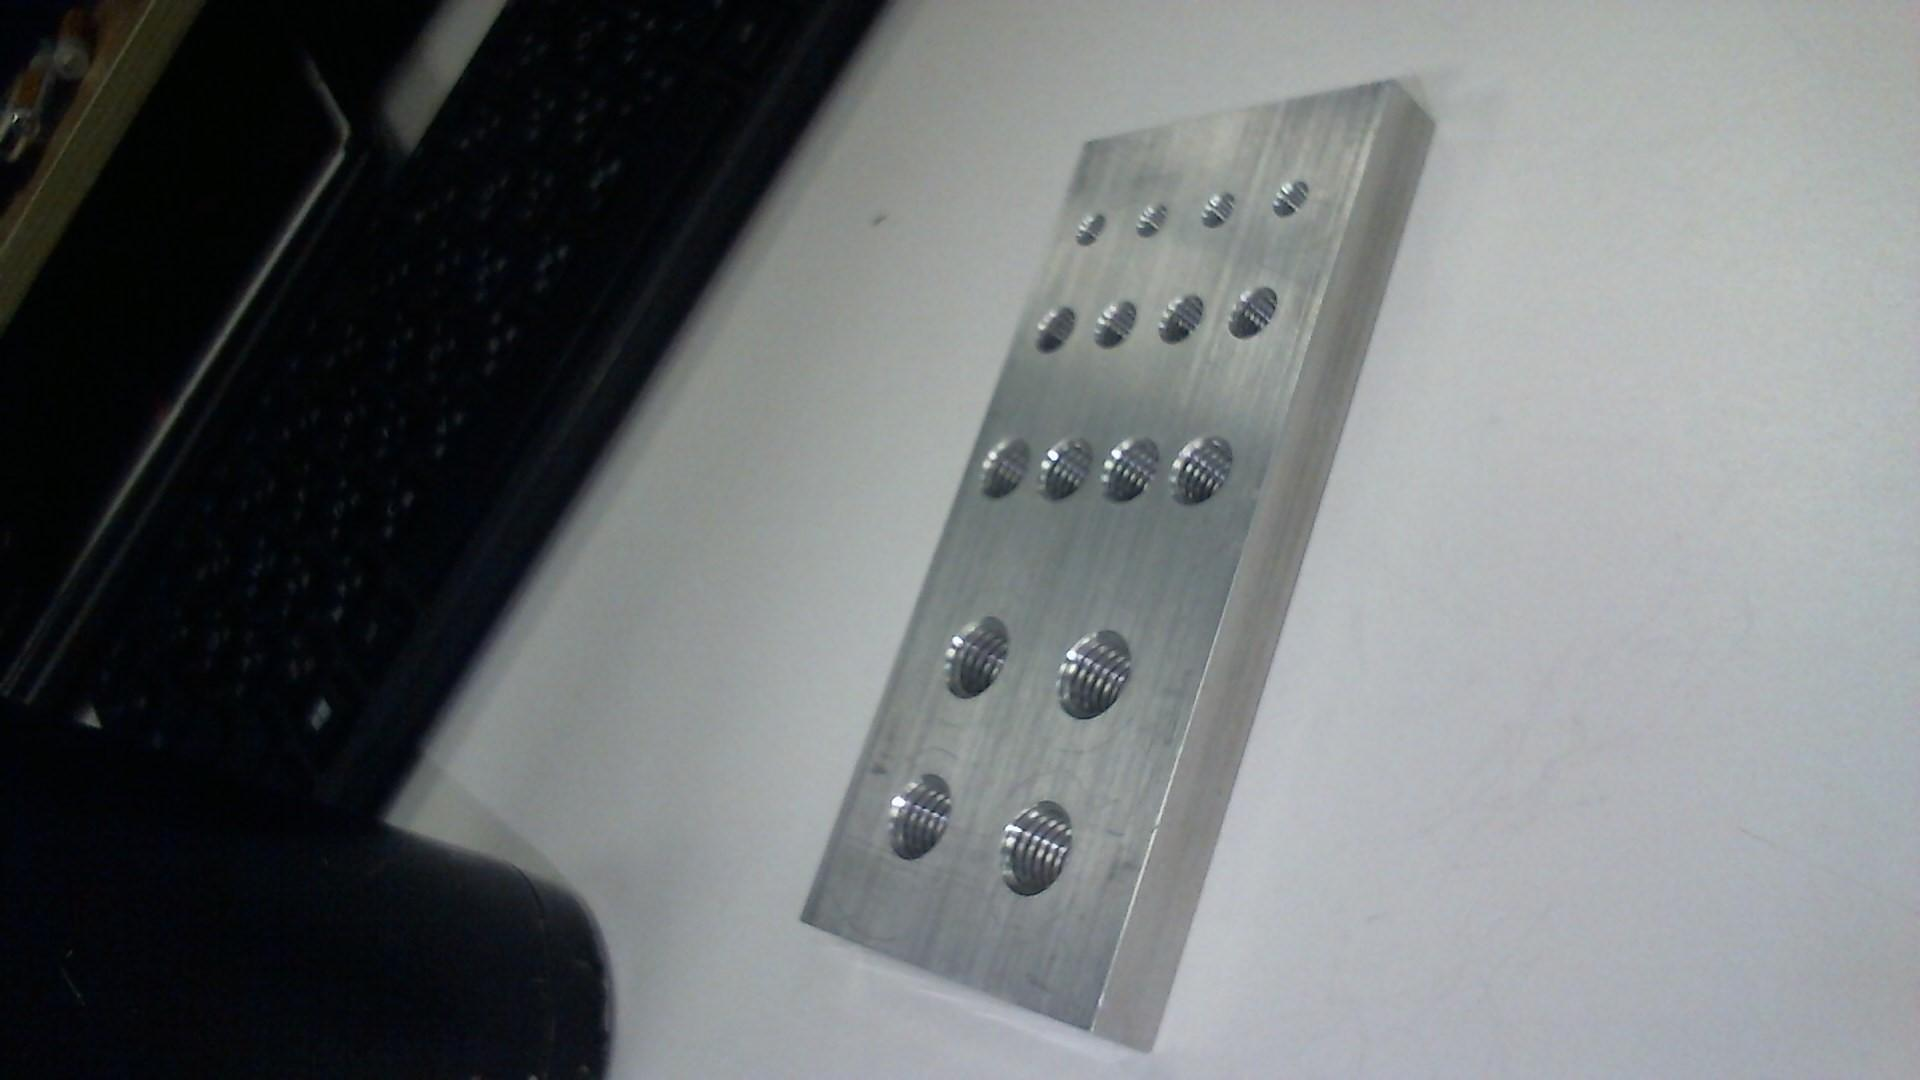hole: (985, 800, 1081, 909), (1048, 620, 1143, 727), (877, 767, 960, 866), (931, 609, 1014, 705), (1170, 435, 1236, 510), (1038, 434, 1095, 505), (1104, 433, 1159, 505), (977, 438, 1030, 506), (1226, 286, 1279, 340), (1089, 295, 1139, 351), (1156, 294, 1207, 344), (1273, 165, 1313, 225), (1034, 303, 1076, 353), (1197, 190, 1236, 240), (1131, 196, 1170, 243), (1071, 208, 1105, 249)
